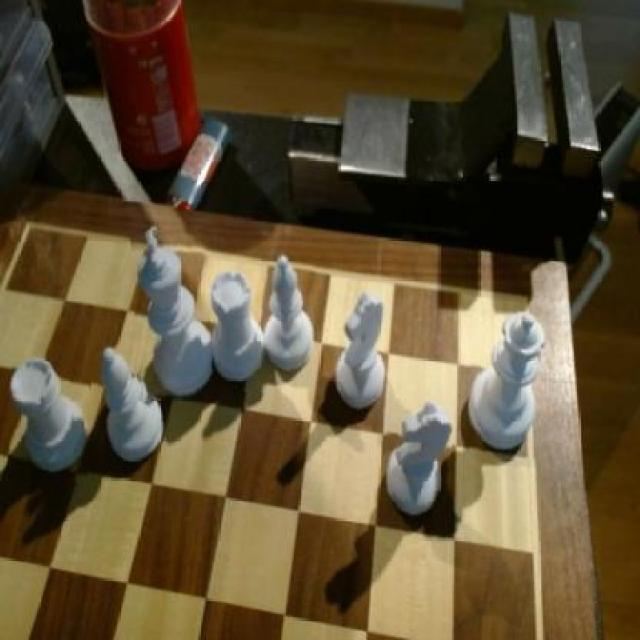black-rook: (98, 345, 166, 462), (263, 248, 319, 373)
white-bishop: (132, 226, 212, 399)
white-king: (384, 400, 452, 520), (335, 294, 390, 418)
white-pawn: (471, 308, 547, 459)
white-queen: (9, 354, 92, 481), (206, 268, 270, 392)
